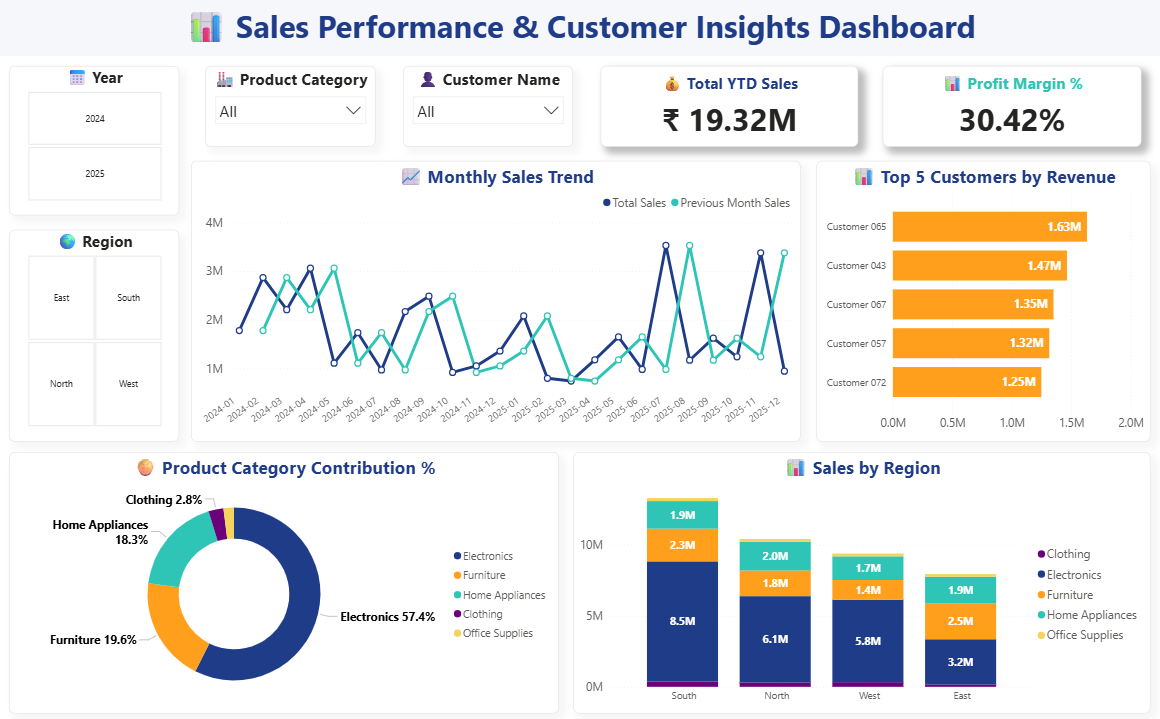

Layout of this report page (visuals, bound fields, positions):
{"tool":"powerbi","page":{"name":"Executive Overview","canvas":[1600,1000],"ordinal":0},"visuals":[{"type":"textbox","box":[0,0,1601.6,80.7],"z":0},{"type":"card","title":"💰 Total YTD Sales","fields":{"Values":["DateTable.YTD Sales"]},"box":[828.6,95.1,355.1,111.2],"z":1000},{"type":"card","title":"📊 Profit Margin %","fields":{"Values":["Fact_Sales.Profit Margin %"]},"box":[1217.8,95.1,356.9,111.2],"z":2000},{"type":"slicer","title":"📅 Year","fields":{"Values":["DateTable.Year"]},"box":[12.6,95.1,234.9,206.2],"z":3000},{"type":"slicer","title":"👤 Customer Name","fields":{"Values":["Fact_Sales.Customer Name"]},"box":[556,95.1,234.9,111.2],"z":4000},{"type":"slicer","title":"🌍 Region","fields":{"Values":["Fact_Sales.Region"]},"box":[12.6,321,234.9,292.3],"z":5000},{"type":"slicer","title":"🏭 Product Category","fields":{"Values":["Fact_Sales.Product Category"]},"box":[283.4,95.1,234.9,111.2],"z":6000},{"type":"lineChart","title":"📈 Monthly Sales Trend","fields":{"Category":["DateTable.Year-Month"],"Y":["Fact_Sales.Total Sales","Fact_Sales.Previous Month Sales"]},"box":[263.6,226,841.1,387.4],"z":7000},{"type":"clusteredBarChart","title":"📊 Top 5 Customers by Revenue","fields":{"Category":["Fact_Sales.Customer Name"],"Y":["Fact_Sales.Total Sales"]},"box":[1126.3,226,460.9,387.4],"z":8000},{"type":"donutChart","title":"🥧 Product Category Contribution %","fields":{"Category":["Fact_Sales.Product Category"],"Y":["Fact_Sales.Total Sales"]},"box":[12.6,627.7,758.6,360.5],"z":9000},{"type":"columnChart","title":"📊 Sales by Region","fields":{"Category":["Fact_Sales.Region"],"Y":["Fact_Sales.Total Sales"],"Series":["Fact_Sales.Product Category"]},"box":[790.9,627.7,796.3,360.5],"z":10000}]}

Visuals, with their boxes in screenshot pixels (x1, y1, x2, y2), scaled from the page's 1600x1000 canvas onto the 1160x719 screenshot:
textbox: detection(0, 0, 1159, 58)
"💰 Total YTD Sales" card: detection(601, 68, 858, 148)
"📊 Profit Margin %" card: detection(883, 68, 1142, 148)
"📅 Year" slicer: detection(9, 68, 179, 217)
"👤 Customer Name" slicer: detection(403, 68, 573, 148)
"🌍 Region" slicer: detection(9, 231, 179, 441)
"🏭 Product Category" slicer: detection(205, 68, 376, 148)
"📈 Monthly Sales Trend" lineChart: detection(191, 162, 801, 441)
"📊 Top 5 Customers by Revenue" clusteredBarChart: detection(817, 162, 1151, 441)
"🥧 Product Category Contribution %" donutChart: detection(9, 451, 559, 711)
"📊 Sales by Region" columnChart: detection(573, 451, 1151, 711)
